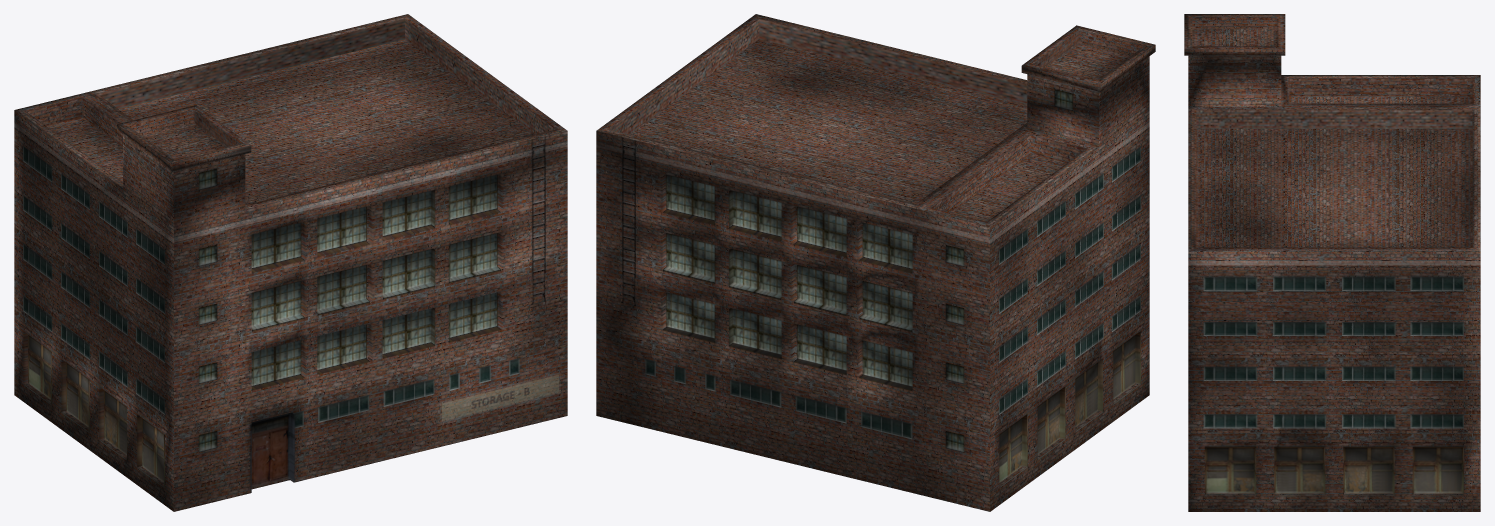
Rendered from warehouse.fbx.
3 views of the same model, side by side, from view 1: azimuth 30°, elevation 25°; view 2: azimuth 150°, elevation 25°; view 3: azimuth 270°, elevation 25° (orthographic). The views are drawn at different scales.
Parts seen in each view (by area): view 1: warehouse; view 2: warehouse; view 3: warehouse.
Boxes of the visible parts, x1,y1,x2,y2 form: warehouse: [14, 14, 567, 511]; warehouse: [596, 14, 1155, 511]; warehouse: [1184, 14, 1480, 511].
Bounding box in the file's own units: 2.09 × 1.76 × 1.47.
